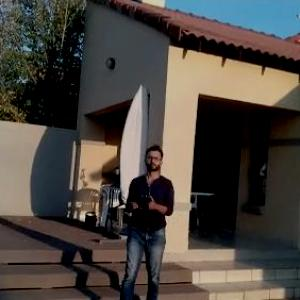follow: (112, 138, 176, 299)
